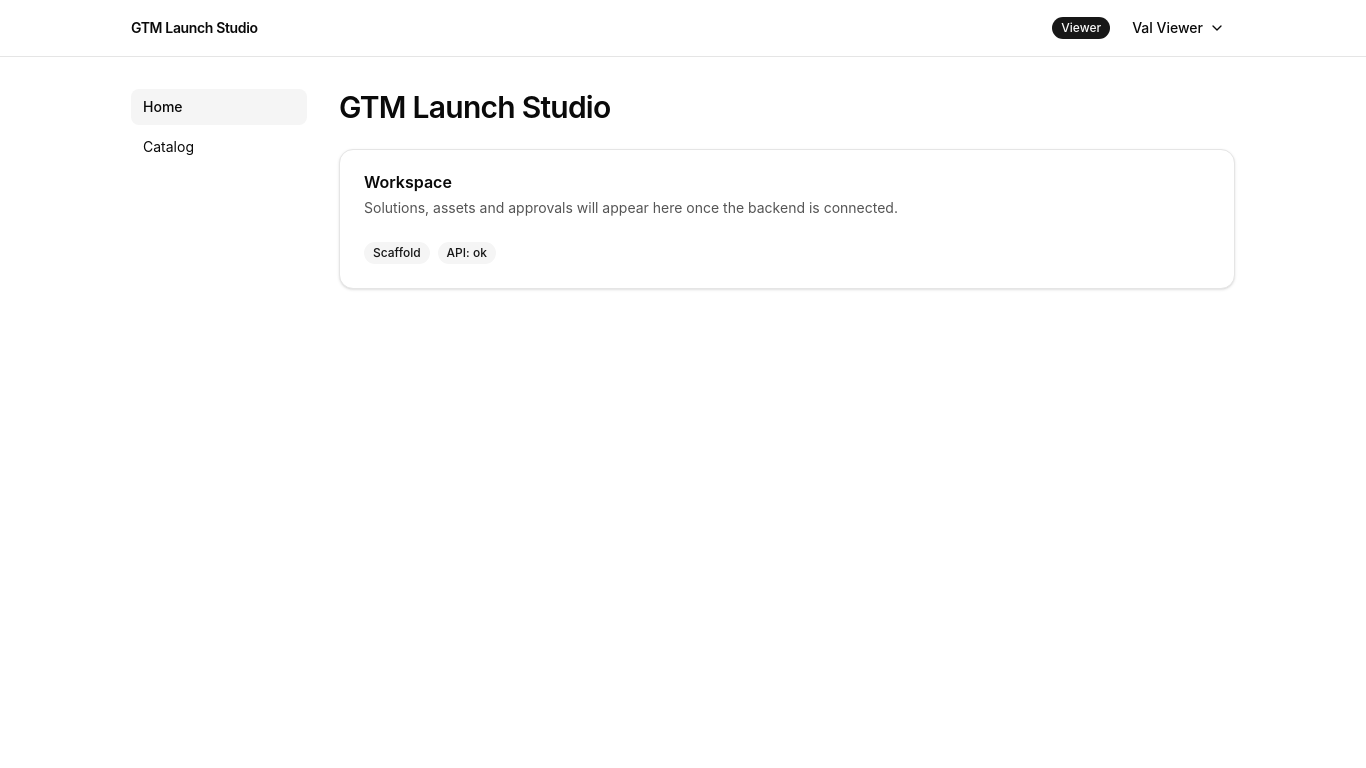
AppLayout › links to Catalog for a user with catalog:read
The width and height of the screenshot is (1366, 768).
Click the link "Catalog".
click(168, 146)  # box x1=143 y1=138 x2=194 y2=155
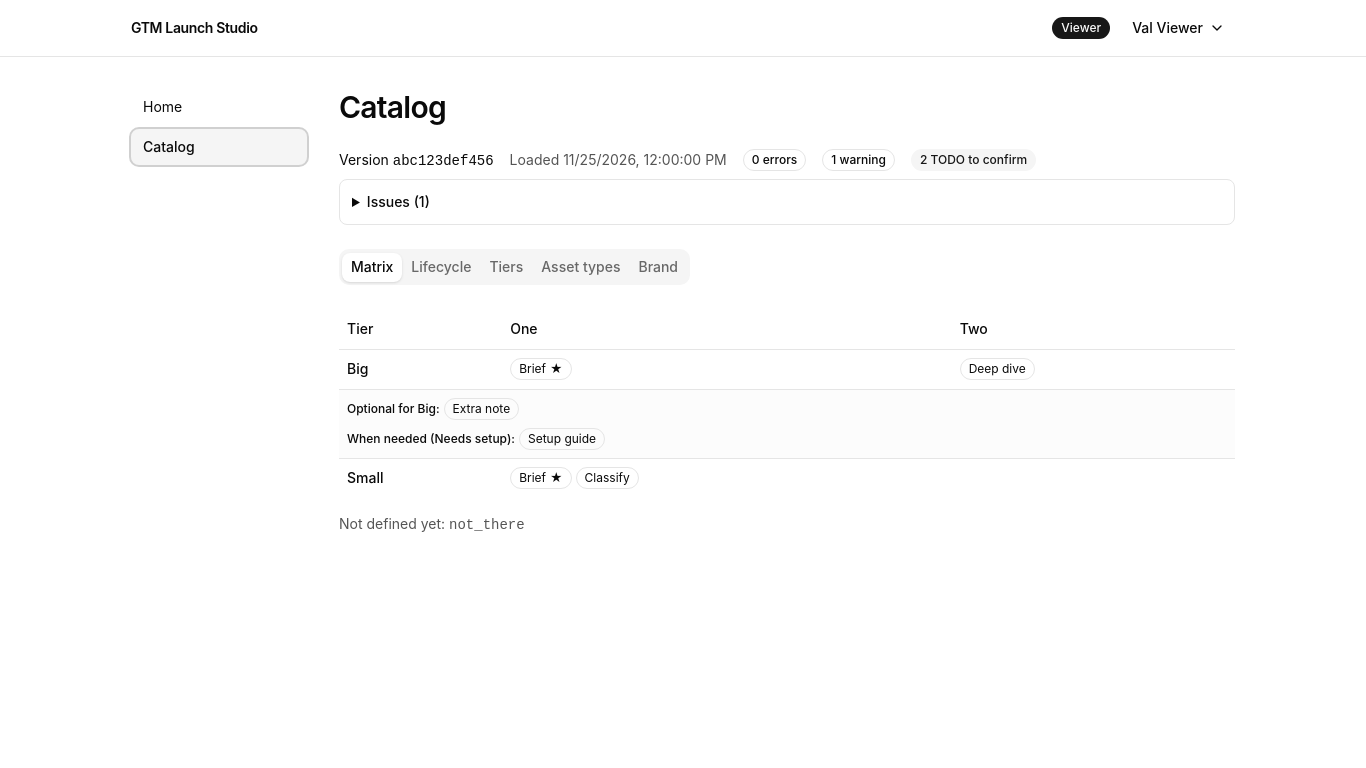
Expected: the heading "Catalog" is shown, x1=339 y1=89 x2=446 y2=125
